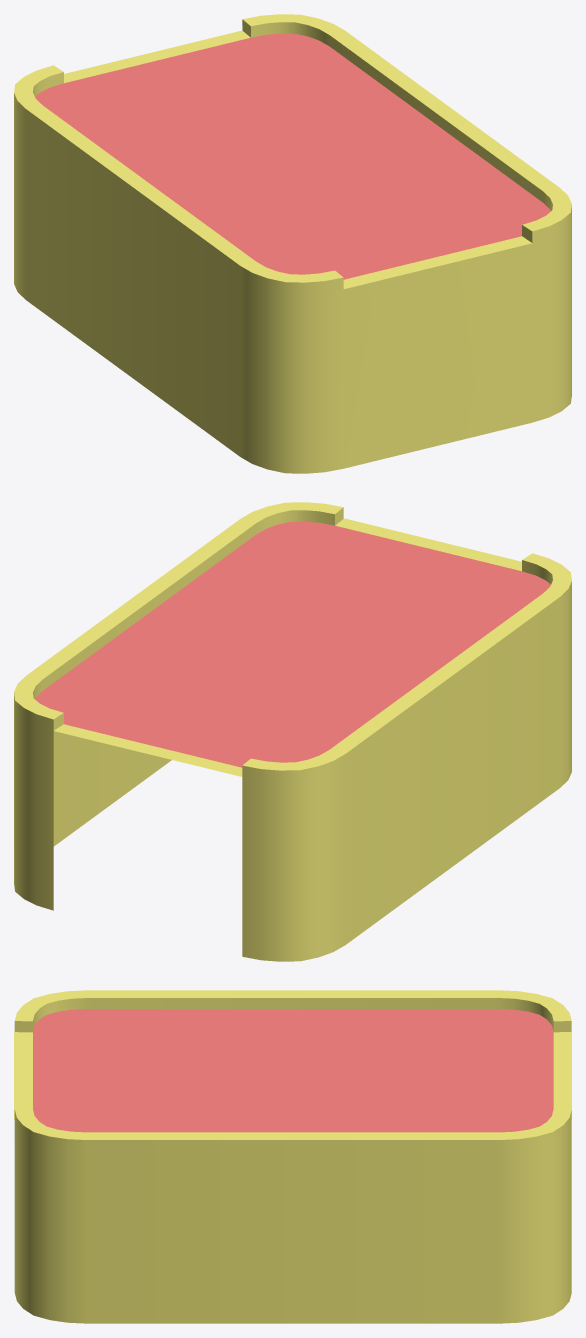
File: arena.fbx
3 renders of one model, top to bottom at view 1: azimuth 30°, elevation 25°; view 2: azimuth 150°, elevation 25°; view 3: azimuth 270°, elevation 25°, orthographic. The views are drawn at different scales.
Parts seen in each view (by area): view 1: Box001, Object001; view 2: Box001, Object001; view 3: Box001, Object001.
Part boxes in pixels (x1,y1,x2,y2): Box001: (14,14,571,473); Object001: (35,30,550,288); Box001: (14,502,571,961); Object001: (35,518,550,776); Box001: (14,990,571,1323); Object001: (14,1009,571,1132).
Size of the model in its own units: 1.78 by 1.02 by 2.8.
